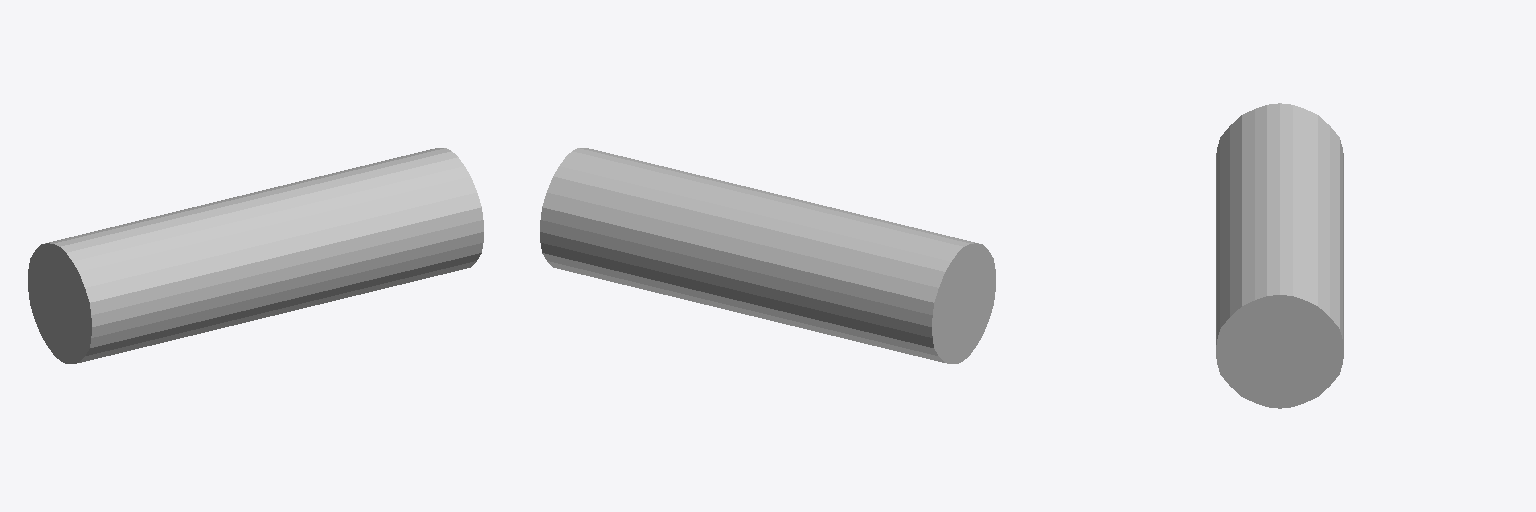
The model's file is ba_log.obj.
The picture shows the model from 3 angles: view 1: azimuth 30°, elevation 25°; view 2: azimuth 150°, elevation 25°; view 3: azimuth 270°, elevation 25°; orthographic projection.
Visible parts, largest first — view 1: slot47, slot48, slot49; view 2: slot47, slot48, slot49; view 3: slot48, slot49, slot47.
Part boxes in pixels (x1,y1,x2,y2): slot47: (79,176,483,362); slot48: (45,148,469,271); slot49: (28,243,91,363); slot47: (540,176,944,362); slot48: (554,148,978,271); slot49: (932,243,995,363); slot48: (1242,103,1317,305); slot49: (1216,295,1343,408); slot47: (1216,115,1343,344).
Size of the model in its own units: 36 by 10 by 10.25.